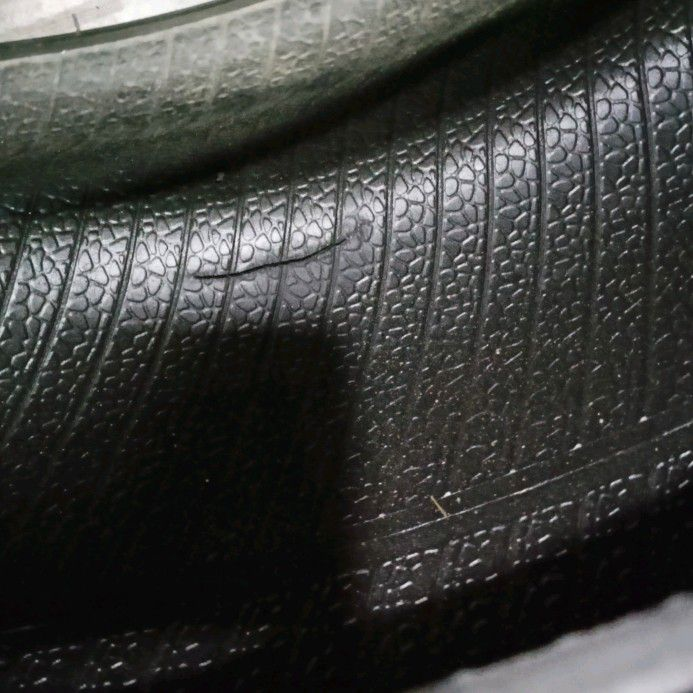cut: (191, 218, 371, 286)
